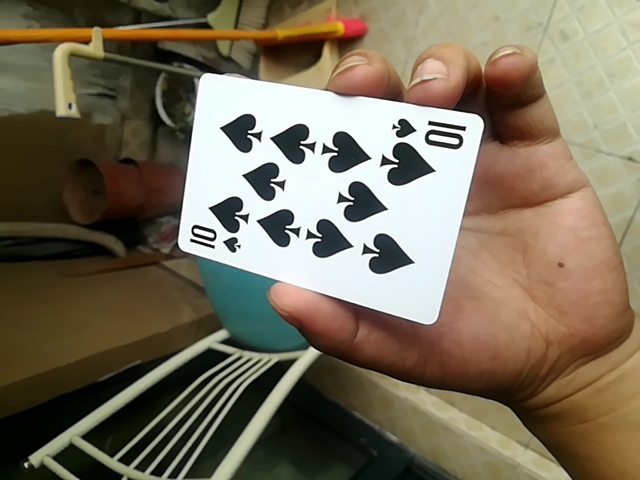ht 10: (172, 72, 483, 322)
